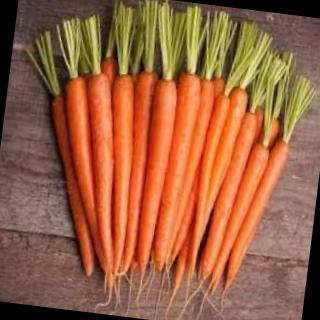Wortel: (43, 74, 138, 277), (64, 63, 141, 278), (150, 47, 207, 273), (132, 52, 184, 279), (226, 134, 293, 293), (211, 139, 274, 296), (188, 91, 235, 279)
